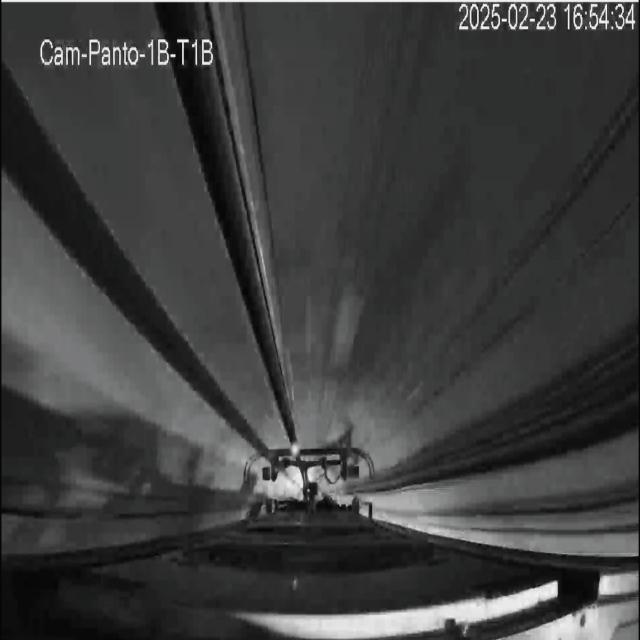Camera Stamp: (39, 34, 220, 70)
Date Stamp: (458, 3, 636, 33)
Sparks: (289, 439, 305, 468), (286, 441, 300, 466)
